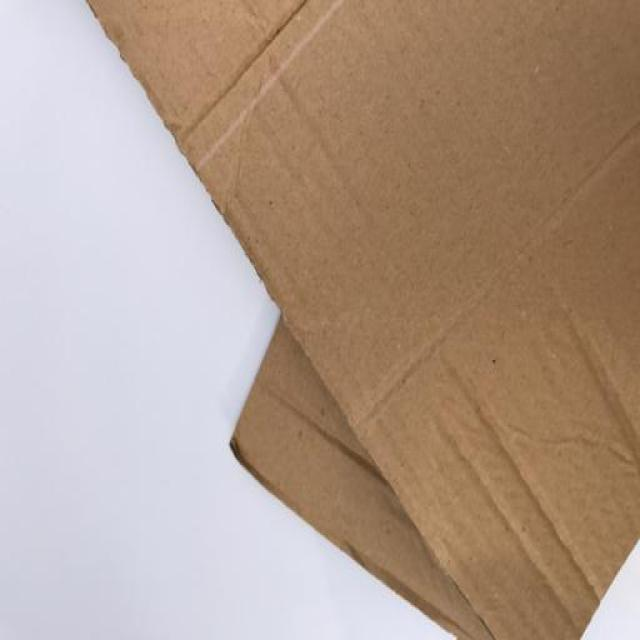Cardboard: (85, 0, 640, 640)
